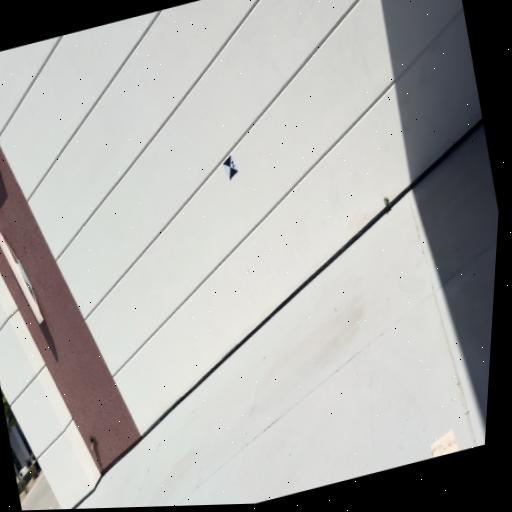target7: (223, 154, 239, 179)
